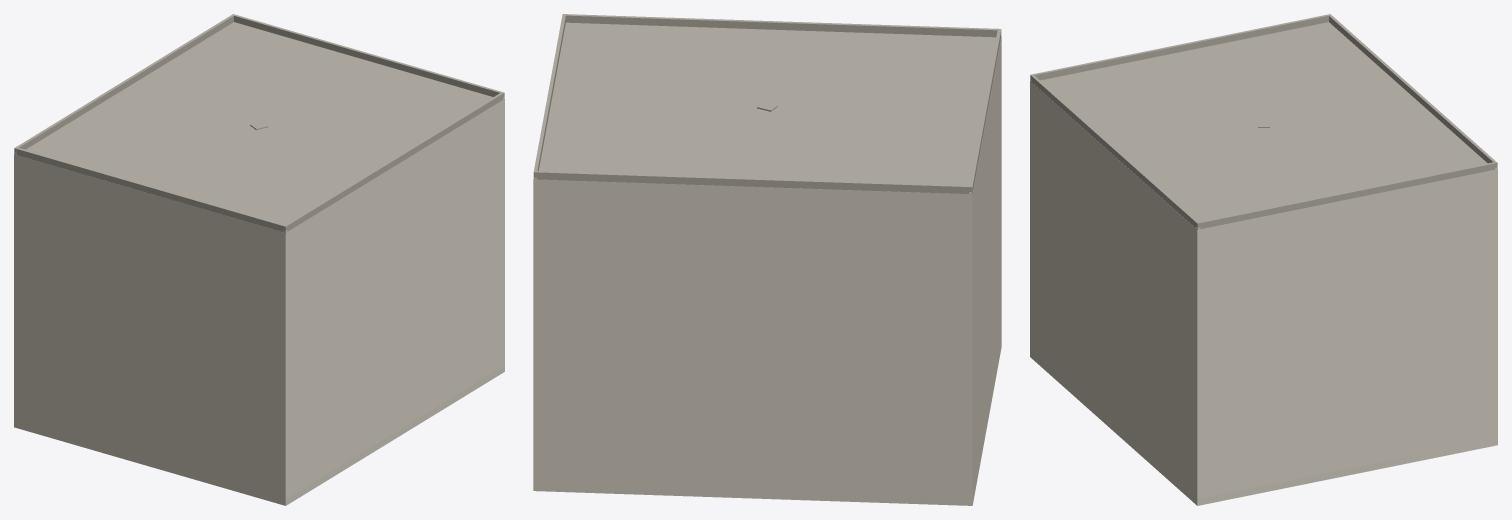
Rendered from cop_residencial_orla_01__way_586975771.fbx.
3 views of the same model, side by side, from view 1: azimuth 30°, elevation 25°; view 2: azimuth 150°, elevation 25°; view 3: azimuth 270°, elevation 25° (orthographic). The views are drawn at different scales.
Visible parts, largest first — view 1: cop_residencial_orla_01__way_586975771_wall, cop_residencial_orla_01__way_586975771_roof, cop_residencial_orla_01__way_586975771_stone; view 2: cop_residencial_orla_01__way_586975771_wall, cop_residencial_orla_01__way_586975771_roof, cop_residencial_orla_01__way_586975771_stone; view 3: cop_residencial_orla_01__way_586975771_wall, cop_residencial_orla_01__way_586975771_roof, cop_residencial_orla_01__way_586975771_stone.
Boxes of the visible parts, x1,y1,x2,y2 form: cop_residencial_orla_01__way_586975771_wall: (14, 99, 504, 505); cop_residencial_orla_01__way_586975771_roof: (14, 14, 504, 231); cop_residencial_orla_01__way_586975771_stone: (14, 97, 504, 505); cop_residencial_orla_01__way_586975771_wall: (533, 36, 1001, 505); cop_residencial_orla_01__way_586975771_roof: (533, 14, 1001, 194); cop_residencial_orla_01__way_586975771_stone: (533, 35, 1001, 505); cop_residencial_orla_01__way_586975771_wall: (1030, 81, 1497, 505); cop_residencial_orla_01__way_586975771_roof: (1030, 14, 1497, 229); cop_residencial_orla_01__way_586975771_stone: (1030, 79, 1497, 505).
Size of the model in its own units: 4890 by 3069 by 4609.
